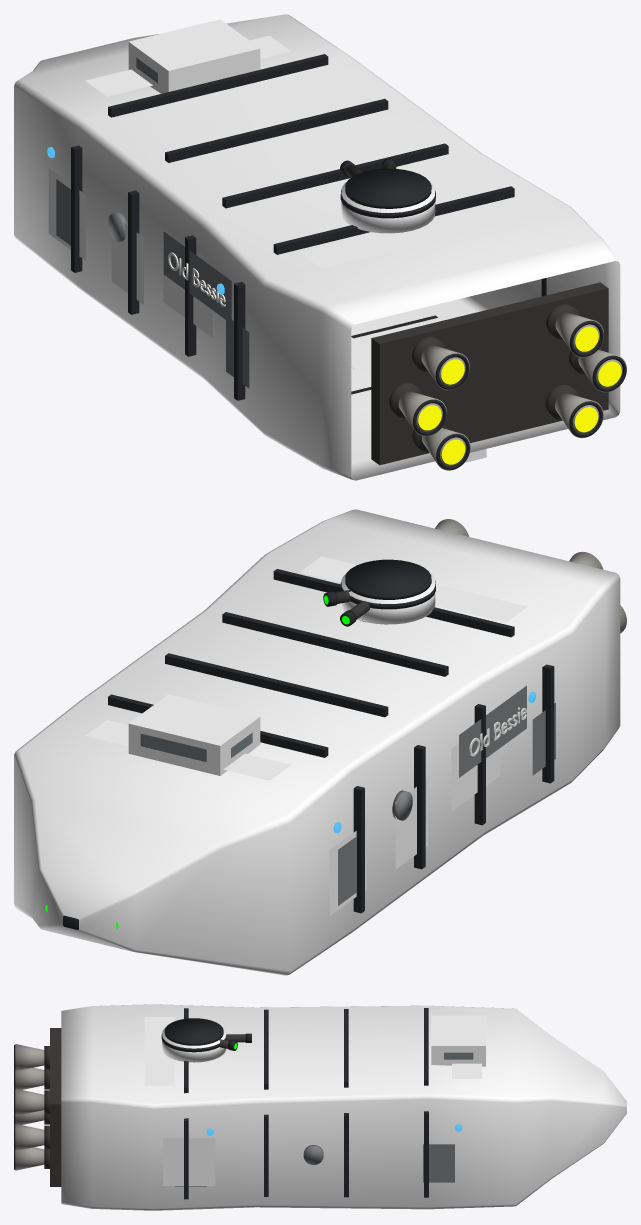
Rendered from Ship_Blocky_10.glb.
The picture shows the model from 3 angles, top to bottom: view 1: azimuth 30°, elevation 25°; view 2: azimuth 150°, elevation 25°; view 3: azimuth 270°, elevation 25°; orthographic projection. The views are drawn at different scales.
Parts seen in each view (by area): view 1: Hull_RoundedRectCargoBody, AftBulkhead_RectangularEngineFrame, BridgeBlock_LowDorsalCommandHouse, DorsalPaintBand_01_WideCargoStripe, PillboxTurret_01_DorsalAft_FlatArmoredRoof, EngineEmitter, CargoRib_03_DorsalCrossBeam, CargoRib_04_DorsalCrossBeam, CargoRib_02_DorsalCrossBeam, ShipNamePlate_Left_PaintedBackingPanel, PillboxTurret_01_DorsalAft_CylindricalArmorWall, CargoRib_01_DorsalCrossBeam (+18 smaller); view 2: Hull_RoundedRectCargoBody, BridgeBlock_LowDorsalCommandHouse, PillboxTurret_01_DorsalAft_FlatArmoredRoof, CargoRib_02_DorsalCrossBeam, CargoRib_03_DorsalCrossBeam, DorsalPaintBand_01_WideCargoStripe, ShipNamePlate_Left_PaintedBackingPanel, CargoRib_01_DorsalCrossBeam, PillboxTurret_01_DorsalAft_CylindricalArmorWall, DorsalPaintBand_02_WideCargoStripe, CargoPaintPanel_02_Left_BroadRegistryPlate, CargoPaintPanel_03_Left_BroadRegistryPlate (+10 smaller); view 3: Hull_RoundedRectCargoBody, BridgeBlock_LowDorsalCommandHouse, CargoPaintPanel_01_Right_BroadRegistryPlate, AftBulkhead_RectangularEngineFrame, DorsalPaintBand_01_WideCargoStripe, PillboxTurret_01_DorsalAft_FlatArmoredRoof, ServiceDoor_Right_02_InsetCargoHatch, PillboxTurret_01_DorsalAft_CylindricalArmorWall, EngineBell_MiddleRight_ShortCargoNozzle, EngineBell_UpperLeft_ShortCargoNozzle, EngineBell_UpperRight_ShortCargoNozzle, EngineBell_LowerRight_ShortCargoNozzle (+11 smaller).
Part boxes in pixels (x1,y1,x2,y2): Hull_RoundedRectCargoBody: (14,14,620,480); AftBulkhead_RectangularEngineFrame: (371,282,608,465); BridgeBlock_LowDorsalCommandHouse: (128,19,260,93); DorsalPaintBand_01_WideCargoStripe: (300,202,527,268); PillboxTurret_01_DorsalAft_FlatArmoredRoof: (345,168,431,208); EngineEmitter: (418,326,621,464); CargoRib_03_DorsalCrossBeam: (165,98,388,162); CargoRib_04_DorsalCrossBeam: (108,54,328,117); CargoRib_02_DorsalCrossBeam: (222,143,448,208); ShipNamePlate_Left_PaintedBackingPanel: (163,231,231,319); PillboxTurret_01_DorsalAft_CylindricalArmorWall: (341,181,435,233); CargoRib_01_DorsalCrossBeam: (273,186,514,254); Hull_RoundedRectCargoBody: (14,509,620,975); BridgeBlock_LowDorsalCommandHouse: (128,694,260,775); PillboxTurret_01_DorsalAft_FlatArmoredRoof: (345,559,431,599); CargoRib_02_DorsalCrossBeam: (222,612,448,676); CargoRib_03_DorsalCrossBeam: (165,653,388,717); DorsalPaintBand_01_WideCargoStripe: (300,556,527,622); ShipNamePlate_Left_PaintedBackingPanel: (459,685,526,777); CargoRib_01_DorsalCrossBeam: (273,569,514,637); PillboxTurret_01_DorsalAft_CylindricalArmorWall: (341,572,435,624); DorsalPaintBand_02_WideCargoStripe: (85,720,291,780); CargoPaintPanel_02_Left_BroadRegistryPlate: (451,743,500,811); CargoPaintPanel_03_Left_BroadRegistryPlate: (395,778,427,869); Hull_RoundedRectCargoBody: (61,1004,626,1210); BridgeBlock_LowDorsalCommandHouse: (431,1015,485,1066); CargoPaintPanel_01_Right_BroadRegistryPlate: (163,1138,215,1185); AftBulkhead_RectangularEngineFrame: (50,1028,61,1186); DorsalPaintBand_01_WideCargoStripe: (144,1017,174,1085); PillboxTurret_01_DorsalAft_FlatArmoredRoof: (164,1018,223,1045); ServiceDoor_Right_02_InsetCargoHatch: (423,1144,454,1182); PillboxTurret_01_DorsalAft_CylindricalArmorWall: (162,1027,226,1062); EngineBell_MiddleRight_ShortCargoNozzle: (15,1123,44,1151); EngineBell_UpperLeft_ShortCargoNozzle: (15,1044,44,1071); EngineBell_UpperRight_ShortCargoNozzle: (15,1088,44,1115); EngineBell_LowerRight_ShortCargoNozzle: (15,1147,44,1170).
Bounding box in the file's own units: 2.13 × 1.37 × 5.24.
